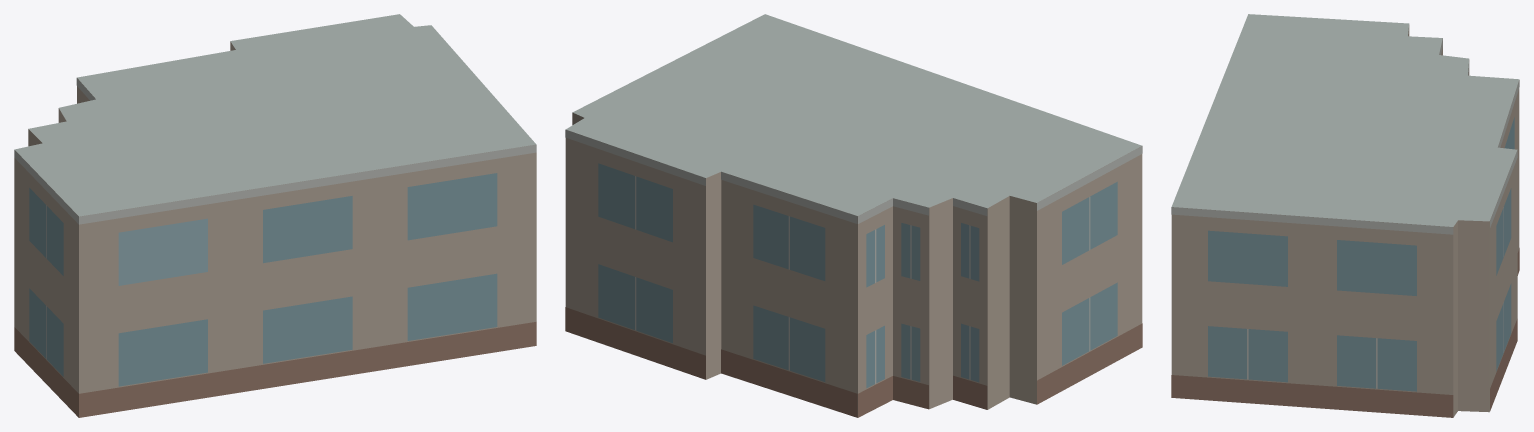
The model's file is survey-upis-32802381.glb.
3 renders of one model, left to right at view 1: azimuth 30°, elevation 25°; view 2: azimuth 150°, elevation 25°; view 3: azimuth 270°, elevation 25°, orthographic. The views are drawn at different scales.
Visible parts, largest first — view 1: survey-upis-32802381.tmp; view 2: survey-upis-32802381.tmp; view 3: survey-upis-32802381.tmp.
Boxes of the visible parts, left/top/right/bottom form: survey-upis-32802381.tmp: left=14, top=14, right=536, bottom=417; survey-upis-32802381.tmp: left=565, top=14, right=1142, bottom=417; survey-upis-32802381.tmp: left=1171, top=14, right=1519, bottom=417.
Bounding box in the file's own units: 14.62 × 6.1 × 10.09.
